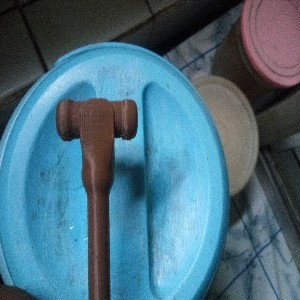palu: (55, 97, 138, 300)
